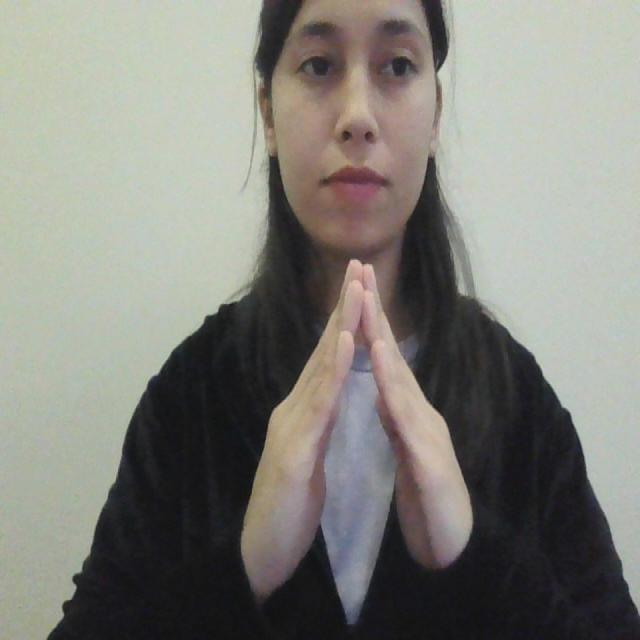Ev: (220, 252, 492, 608)
